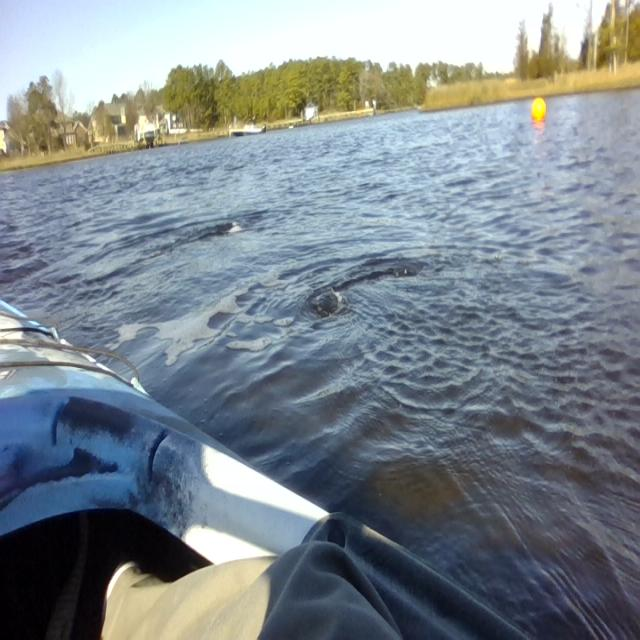Buoy: (526, 90, 549, 130)
